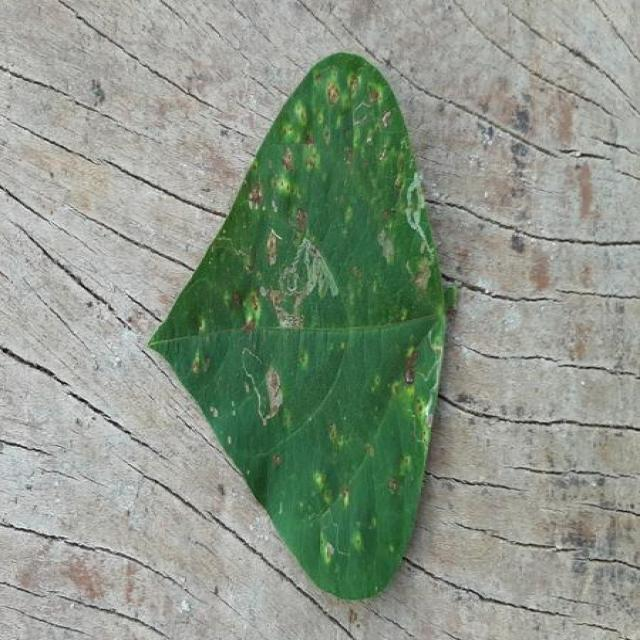beans: (150, 54, 448, 598), (217, 111, 302, 331)
defectedbeans: (152, 54, 443, 344)
